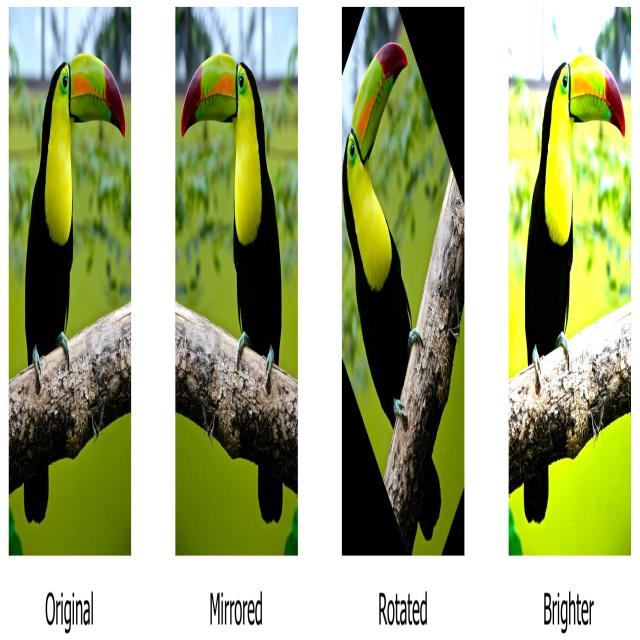Hornbill: (183, 42, 288, 528), (342, 39, 446, 524), (24, 39, 126, 532), (520, 37, 624, 519)
